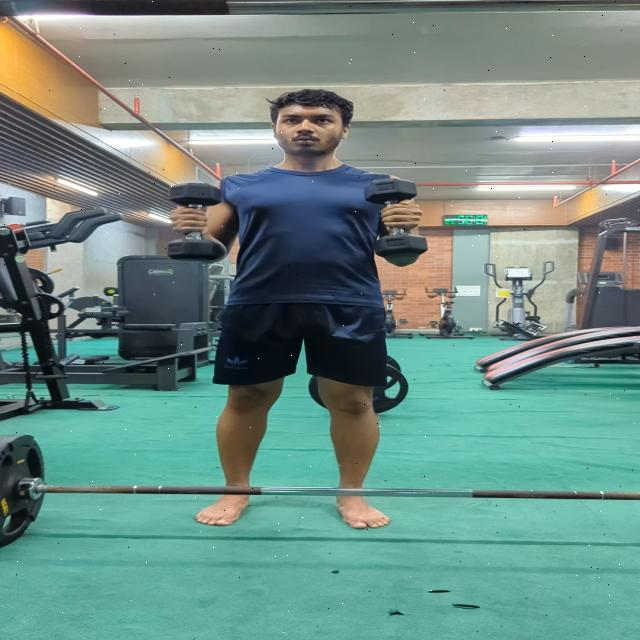Normal_DumbbellBicepCurls: (146, 84, 452, 536)
